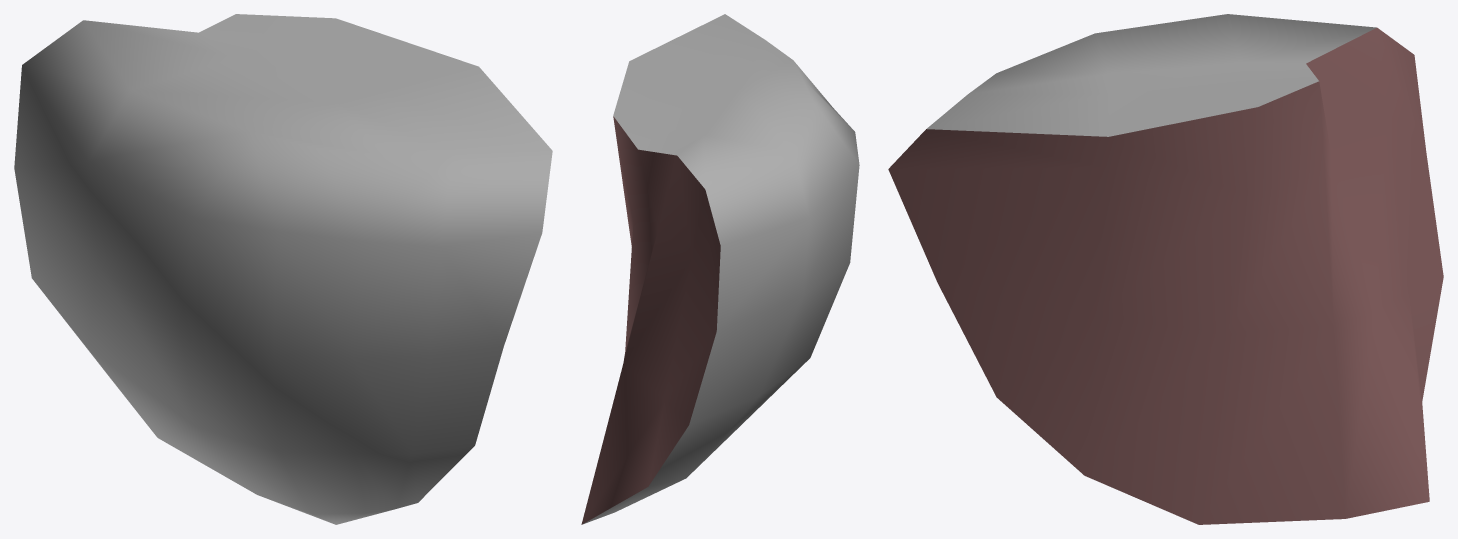
3 views of the same model, side by side, from view 1: azimuth 30°, elevation 25°; view 2: azimuth 150°, elevation 25°; view 3: azimuth 270°, elevation 25° (orthographic). The views are drawn at different scales.
Parts seen in each view (by area): view 1: p2_2; view 2: p2_2; view 3: p2_2.
Part boxes in pixels (bbox=[...]): p2_2: bbox=[14, 14, 552, 524]; p2_2: bbox=[581, 14, 859, 524]; p2_2: bbox=[888, 14, 1443, 524].
Bounding box in the file's own units: 4.57 × 6.62 × 7.68.
